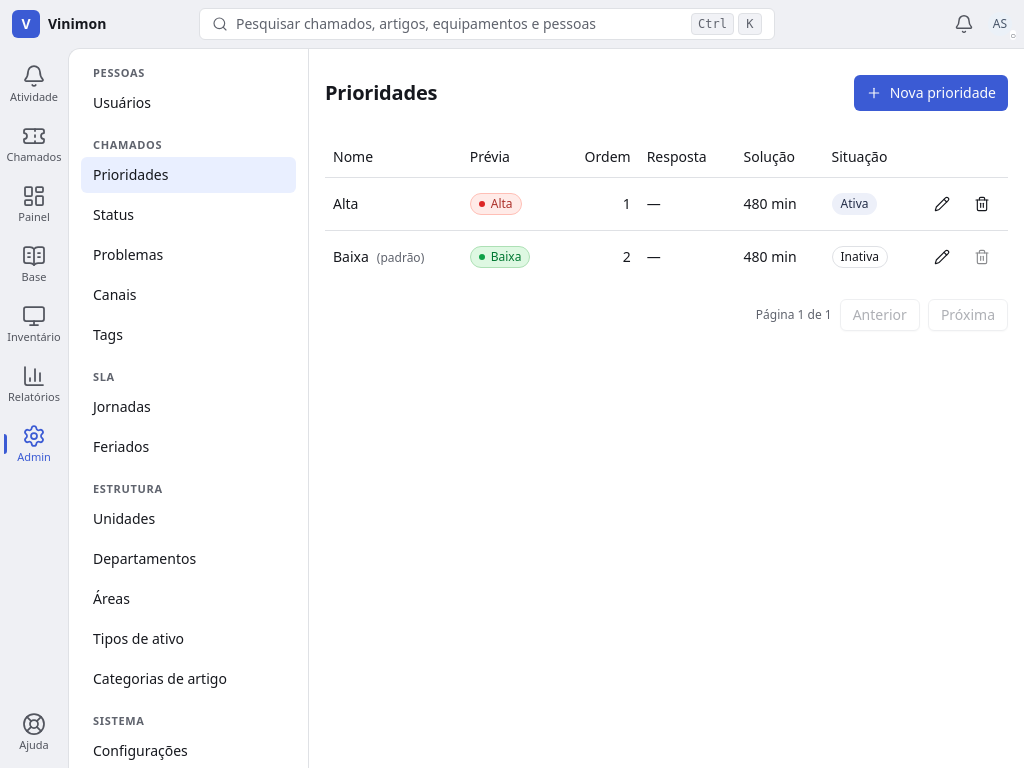
/admin/prioridades › excluir confirma e faz DELETE /prioridades/1
This screenshot has width=1024, height=768.
Click the button named "Excluir Alta" at point(982, 204), box 964,186 -> 1000,222
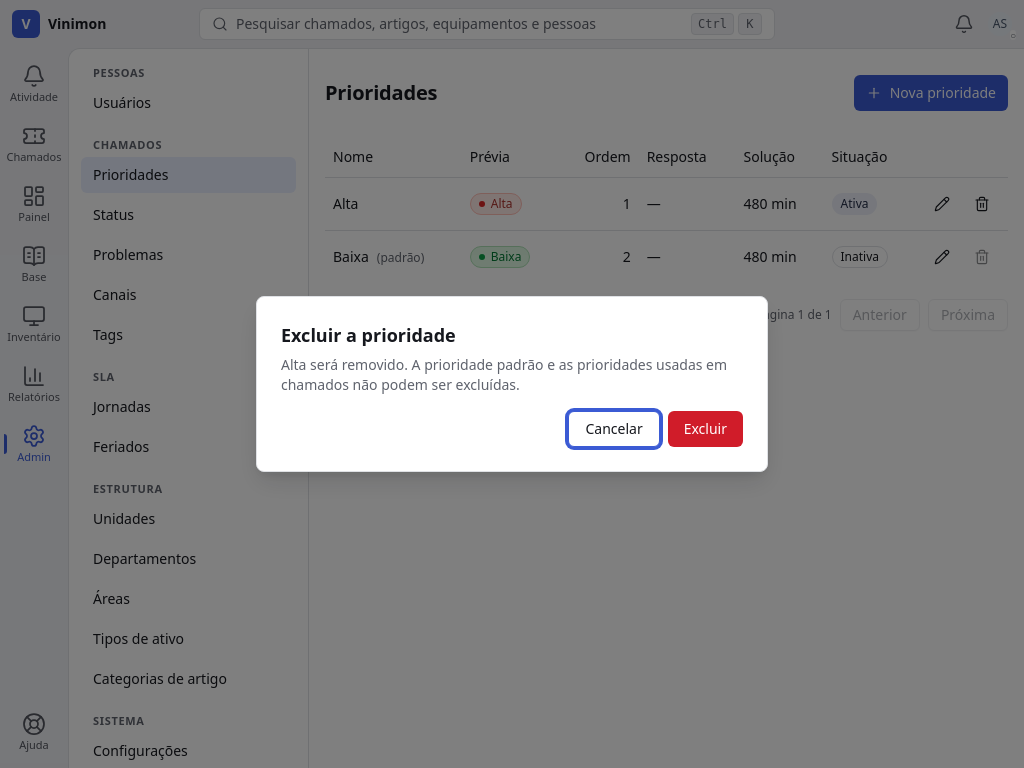
Click the button "Excluir" at point(705, 429), box 668,411 -> 743,447
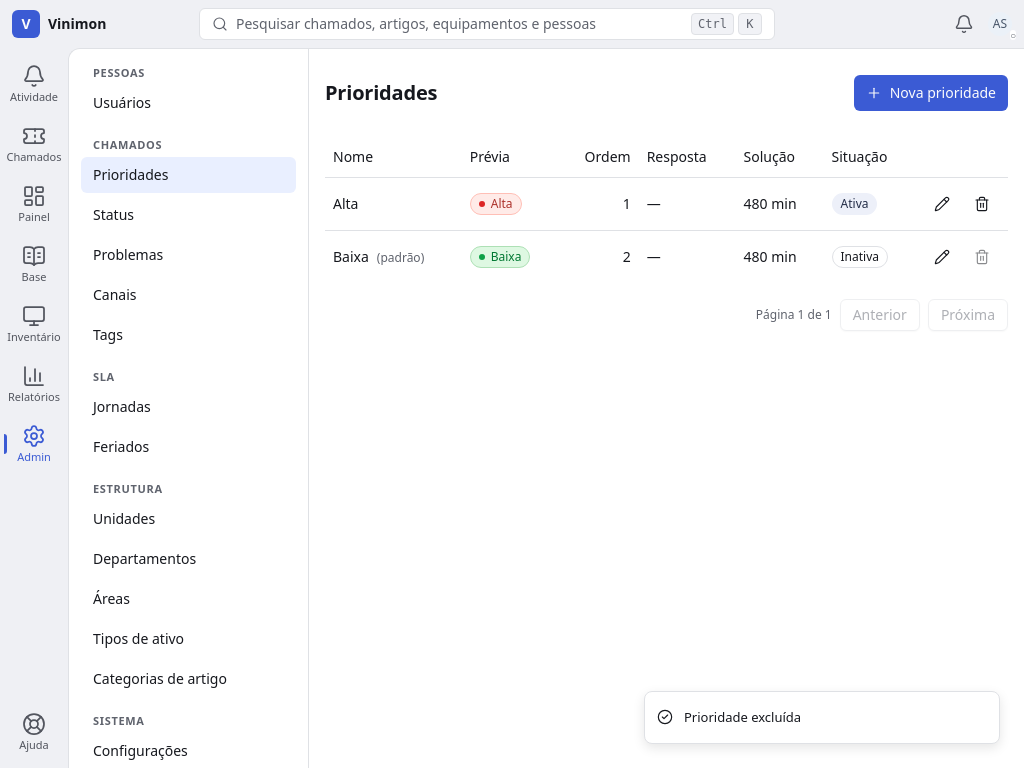
expect the text "Prioridade excluída" is shown: met, box 684,708 -> 801,727
